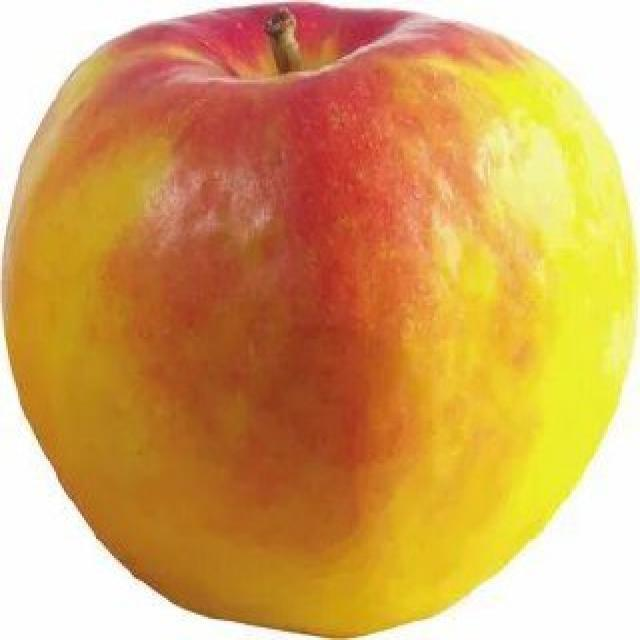Fresh Apple: (37, 15, 615, 637)
